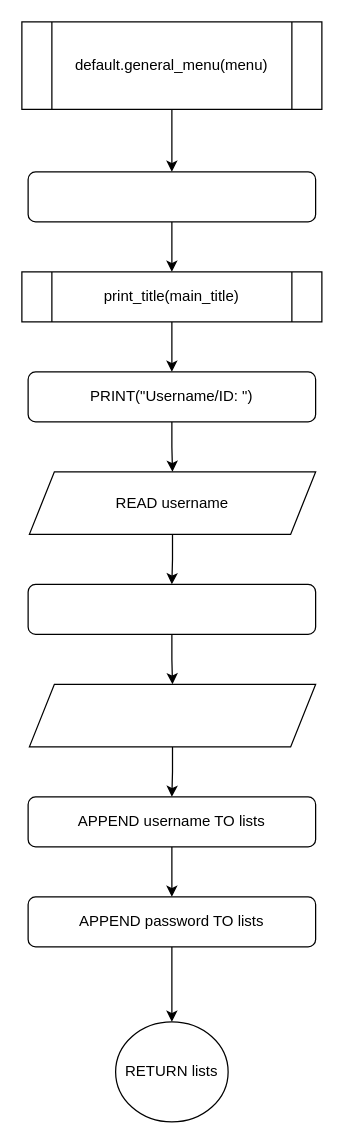
Image size: 344x1144. Some labels were removed from this diagram. The shapes that lost their labels are listed below. From the top down, each one's box as (x1, y1, x2, y2) in pixels, then its label:
(27, 171, 316, 222): DECLARE lists = []
(27, 583, 316, 634): PRINT(" Password: ")
(28, 683, 316, 747): READ password
